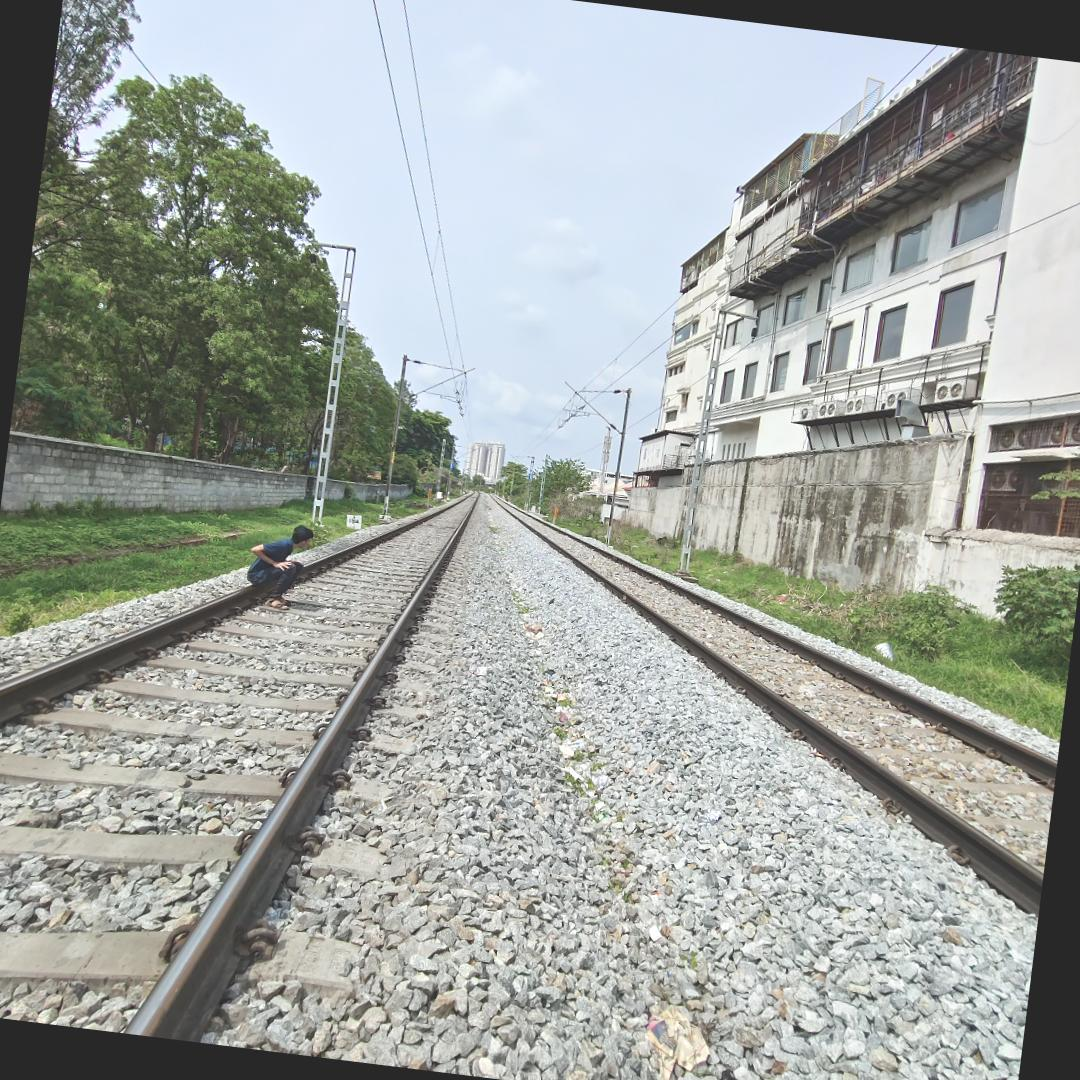sitting: (231, 509, 331, 623)
track: (494, 503, 1060, 1036), (0, 489, 495, 1053)
